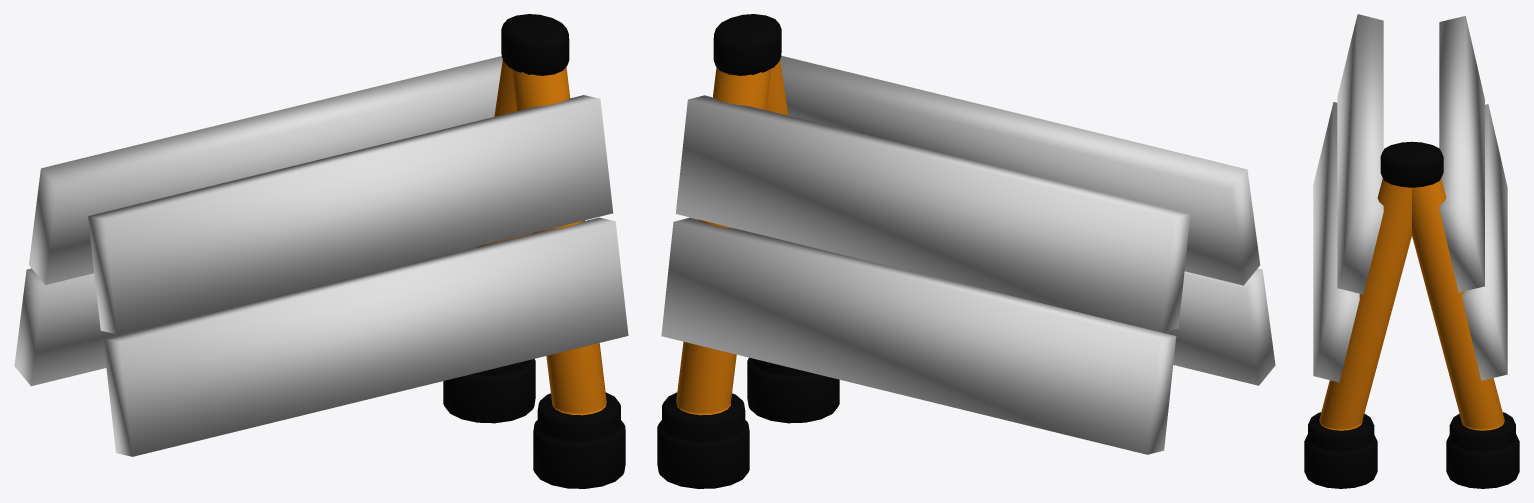
The model's file is 2. SAFETY BARRIER.glb.
3 renders of one model, left to right at view 1: azimuth 30°, elevation 25°; view 2: azimuth 150°, elevation 25°; view 3: azimuth 270°, elevation 25°, orthographic. The views are drawn at different scales.
Parts seen in each view (by area): view 1: Plane, Plane.001, Cylinder, Cylinder.001, Cylinder.002; view 2: Plane.001, Plane, Cylinder.001, Cylinder, Cylinder.002; view 3: Plane, Plane.001, Cylinder, Cylinder.001, Cylinder.002.
Part boxes in pixels (left/top/right/bottom): Plane: left=88, top=95, right=628, bottom=456; Plane.001: left=14, top=56, right=502, bottom=386; Cylinder: left=512, top=67, right=625, bottom=488; Cylinder.001: left=443, top=59, right=535, bottom=423; Cylinder.002: left=501, top=14, right=569, bottom=75; Plane.001: left=661, top=95, right=1190, bottom=454; Plane: left=780, top=55, right=1275, bottom=385; Cylinder.001: left=657, top=67, right=770, bottom=488; Cylinder: left=747, top=59, right=839, bottom=423; Cylinder.002: left=713, top=14, right=781, bottom=75; Plane: left=1313, top=14, right=1383, bottom=382; Plane.001: left=1439, top=16, right=1507, bottom=380; Cylinder: left=1304, top=178, right=1411, bottom=488; Cylinder.001: left=1412, top=178, right=1519, bottom=488; Cylinder.002: left=1380, top=141, right=1443, bottom=187.
Size of the model in its own units: 5.44 by 4.23 by 2.55.
